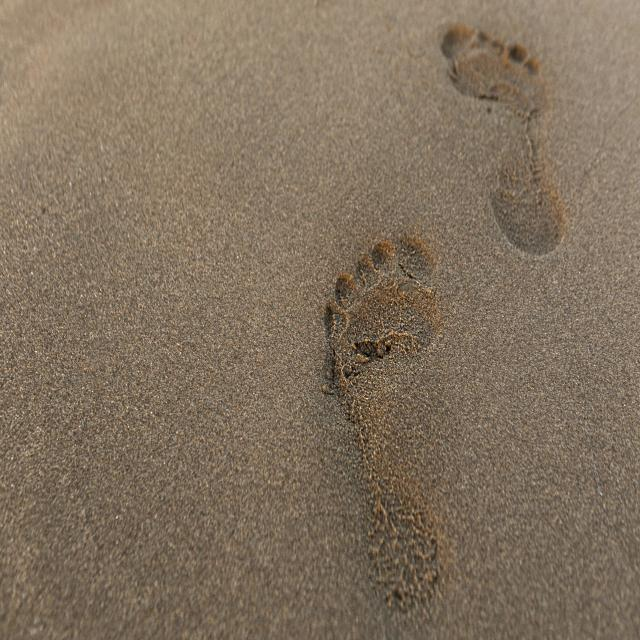human_foot_print: (254, 14, 622, 620)
